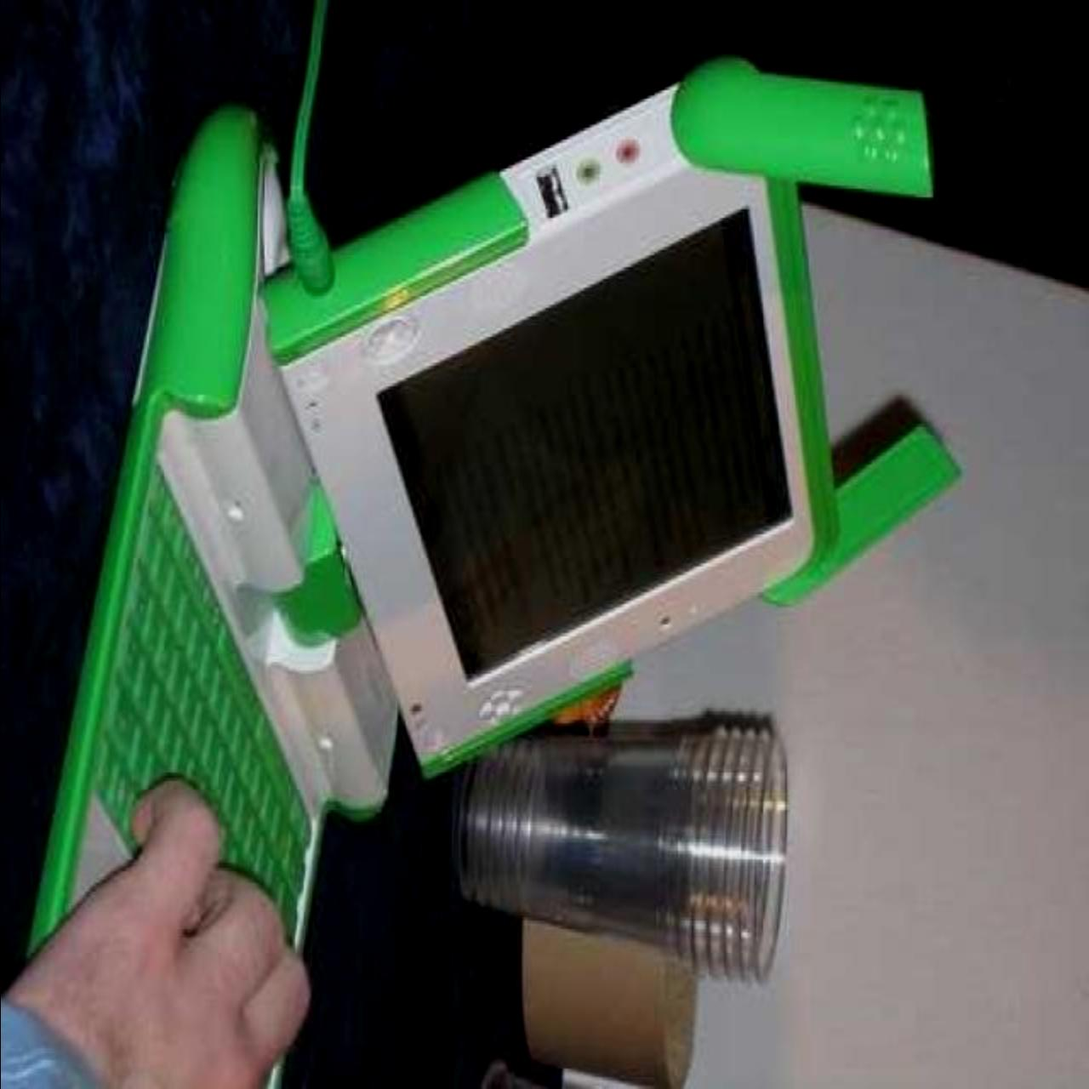laptop: (13, 38, 954, 1088)
